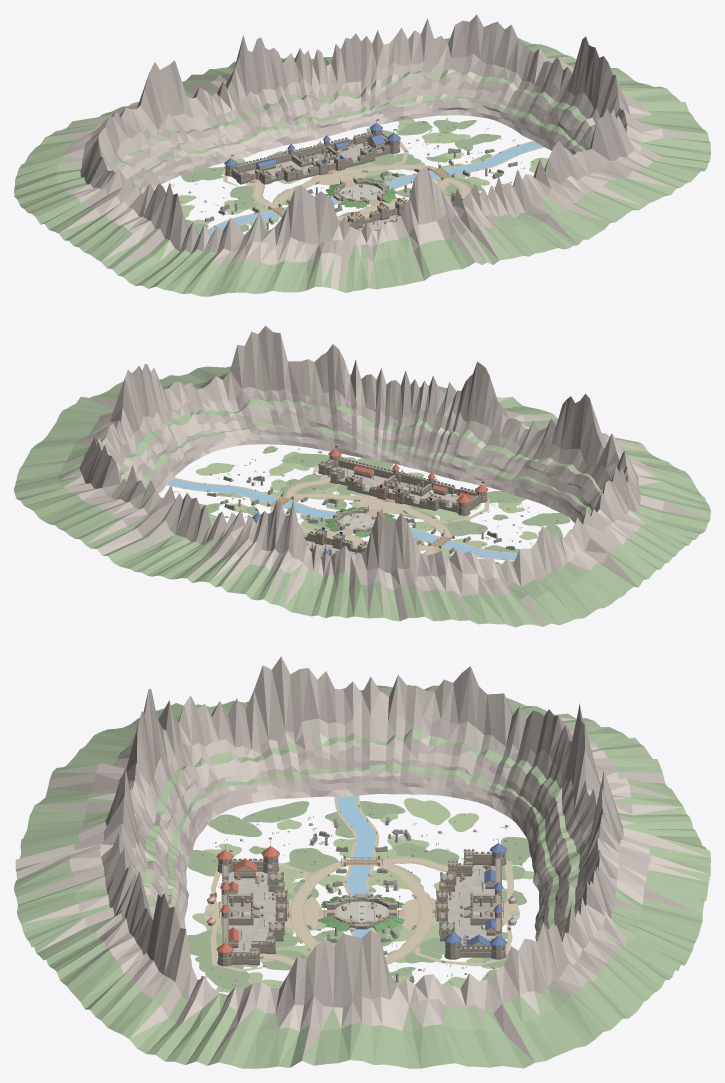
The model's file is map_gvg_field.glb.
The picture shows the model from 3 angles, top to bottom: view 1: azimuth 30°, elevation 25°; view 2: azimuth 150°, elevation 25°; view 3: azimuth 270°, elevation 25°; orthographic projection. The views are drawn at different scales.
Visible parts, largest first — view 1: Z_gvg_field_penhascos, Z_gvg_field_det_obj_-1_-2, Z_gvg_field_det_chao_1_-2, Z_gvg_field_det_chao_1_-1, Z_gvg_field_det_obj_-1_-1, Z_gvg_field_det_obj_0_-2, Z_gvg_field_agua_rio_2, Z_gvg_field_det_chao_0_-1, Z_gvg_field_det_obj_0_-1, Z_gvg_field_det_obj_-1_0, Z_gvg_field_det_chao_0_0, Z_gvg_field_det_chao_1_0 (+5 smaller); view 2: Z_gvg_field_penhascos, Z_gvg_field_det_chao_1_0, Z_gvg_field_det_obj_0_1, Z_gvg_field_det_chao_0_0, Z_gvg_field_det_chao_-2_1, Z_gvg_field_agua_rio_2, Z_gvg_field_det_chao_-2_0, Z_gvg_field_det_obj_0_0, Z_gvg_field_det_obj_-1_0, Z_gvg_field_det_obj_-1_1, Z_gvg_field_agua_rio_1, Z_gvg_field_det_chao_1_1 (+8 smaller); view 3: Z_gvg_field_penhascos, Z_gvg_field_det_chao_-2_1, Z_gvg_field_det_chao_0_0, Z_gvg_field_det_chao_-2_0, Z_gvg_field_det_chao_1_-2, Z_gvg_field_agua_rio_1, Z_gvg_field_det_chao_0_-1, Z_gvg_field_det_chao_1_1, Z_gvg_field_det_chao_0_1, Z_gvg_field_det_chao_-3_-1, Z_gvg_field_det_obj_0_1, Z_gvg_field_det_chao_-3_0 (+21 smaller).
Part boxes in pixels (<box>): Z_gvg_field_penhascos: <box>14,14,710,296</box>; Z_gvg_field_det_obj_-1_-2: <box>236,138,350,180</box>; Z_gvg_field_det_chao_1_-2: <box>252,119,432,176</box>; Z_gvg_field_det_chao_1_-1: <box>394,132,481,170</box>; Z_gvg_field_det_obj_-1_-1: <box>260,157,350,197</box>; Z_gvg_field_det_obj_0_-2: <box>294,131,385,163</box>; Z_gvg_field_agua_rio_2: <box>385,141,542,189</box>; Z_gvg_field_det_chao_0_-1: <box>303,153,405,187</box>; Z_gvg_field_det_obj_0_-1: <box>333,144,414,188</box>; Z_gvg_field_det_obj_-1_0: <box>333,191,389,229</box>; Z_gvg_field_det_chao_0_0: <box>340,184,448,220</box>; Z_gvg_field_det_chao_1_0: <box>334,163,504,208</box>; Z_gvg_field_penhascos: <box>14,325,710,627</box>; Z_gvg_field_det_chao_1_0: <box>250,462,383,537</box>; Z_gvg_field_det_obj_0_1: <box>336,459,455,494</box>; Z_gvg_field_det_chao_0_0: <box>309,483,410,529</box>; Z_gvg_field_det_chao_-2_1: <box>343,470,525,522</box>; Z_gvg_field_agua_rio_2: <box>167,478,335,518</box>; Z_gvg_field_det_chao_-2_0: <box>346,502,492,552</box>; Z_gvg_field_det_obj_0_0: <box>305,470,389,522</box>; Z_gvg_field_det_obj_-1_0: <box>361,486,458,532</box>; Z_gvg_field_det_obj_-1_1: <box>406,472,476,505</box>; Z_gvg_field_agua_rio_1: <box>410,529,517,559</box>; Z_gvg_field_det_chao_1_1: <box>281,451,355,478</box>; Z_gvg_field_penhascos: <box>14,656,710,1068</box>; Z_gvg_field_det_chao_-2_1: <box>187,843,307,950</box>; Z_gvg_field_det_chao_0_0: <box>260,895,388,955</box>; Z_gvg_field_det_chao_-2_0: <box>277,838,434,913</box>; Z_gvg_field_det_chao_1_-2: <box>415,876,512,980</box>; Z_gvg_field_agua_rio_1: <box>337,796,375,896</box>; Z_gvg_field_det_chao_0_-1: <box>374,891,463,954</box>; Z_gvg_field_det_chao_1_1: <box>195,925,272,992</box>; Z_gvg_field_det_chao_0_1: <box>187,902,266,966</box>; Z_gvg_field_det_chao_-3_-1: <box>360,798,450,825</box>; Z_gvg_field_det_obj_0_1: <box>207,880,266,953</box>; Z_gvg_field_det_chao_-3_0: <box>241,801,353,838</box>.
Bounding box in the file's own units: 339 × 55.46 × 260.
